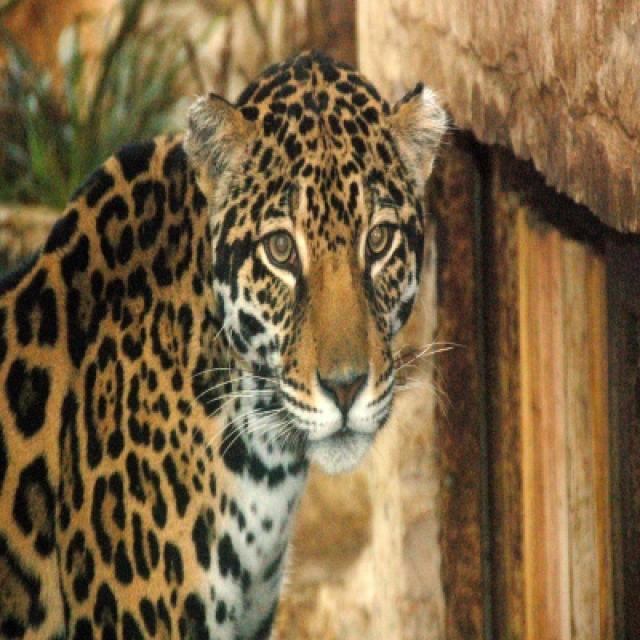Jaguar: (0, 42, 464, 638)
